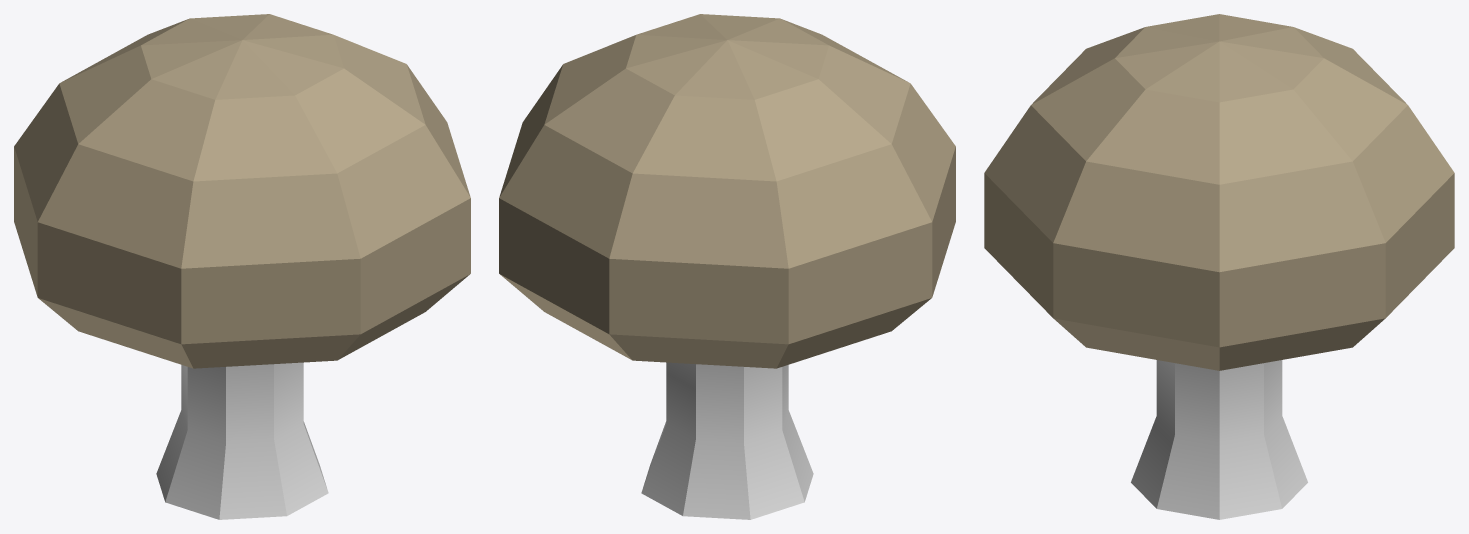
File: Mushroom.fbx
3 views of the same model, side by side, from view 1: azimuth 30°, elevation 25°; view 2: azimuth 150°, elevation 25°; view 3: azimuth 270°, elevation 25° (orthographic).
Parts seen in each view (by area): view 1: pSphere1; view 2: pSphere1; view 3: pSphere1.
Boxes of the visible parts, box(x1,y1,x2,y2) form: pSphere1: box(14, 14, 470, 519); pSphere1: box(499, 14, 955, 519); pSphere1: box(984, 14, 1454, 519).
Bounding box in the file's own units: 0.0394 × 0.0409 × 0.0394.
